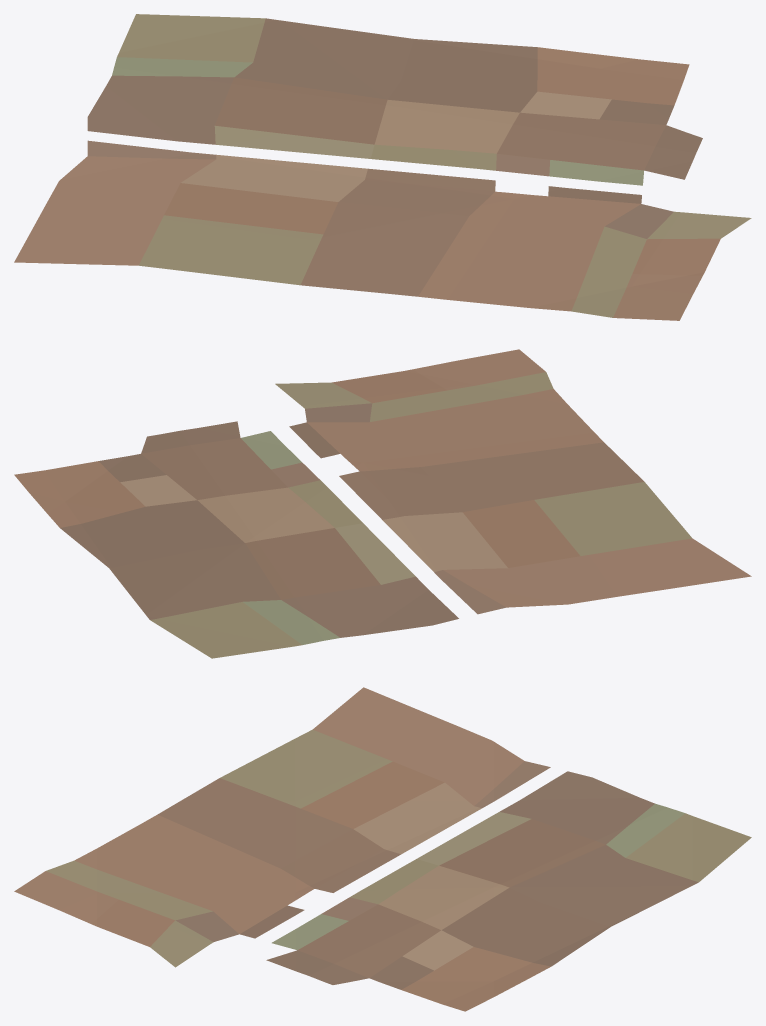
The model's file is farm_11_13_soil.glb.
3 renders of one model, top to bottom at view 1: azimuth 30°, elevation 25°; view 2: azimuth 150°, elevation 25°; view 3: azimuth 270°, elevation 25°, orthographic. The views are drawn at different scales.
Visible parts, largest first — view 1: geometry_0; view 2: geometry_0; view 3: geometry_0.
Boxes of the visible parts, x1,y1,x2,y2 form: geometry_0: (14, 14, 751, 320); geometry_0: (14, 349, 751, 658); geometry_0: (14, 687, 751, 1011).
Size of the model in its own units: 289 by 10.01 by 298.
